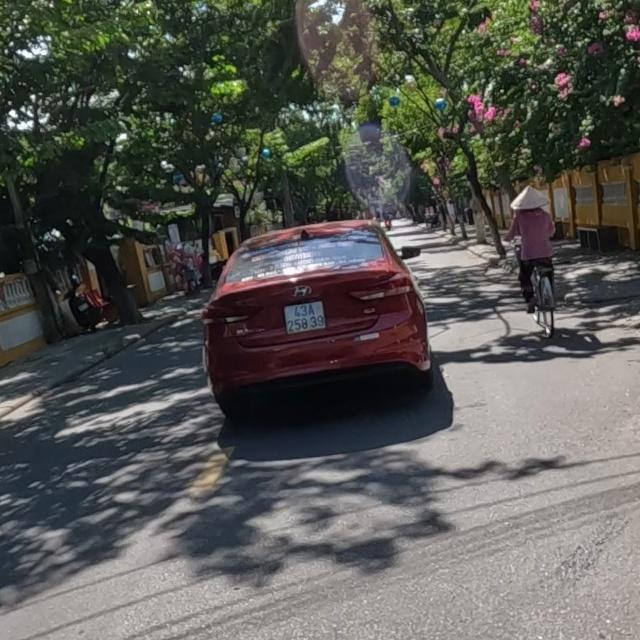license-plate: (283, 299, 327, 334)
